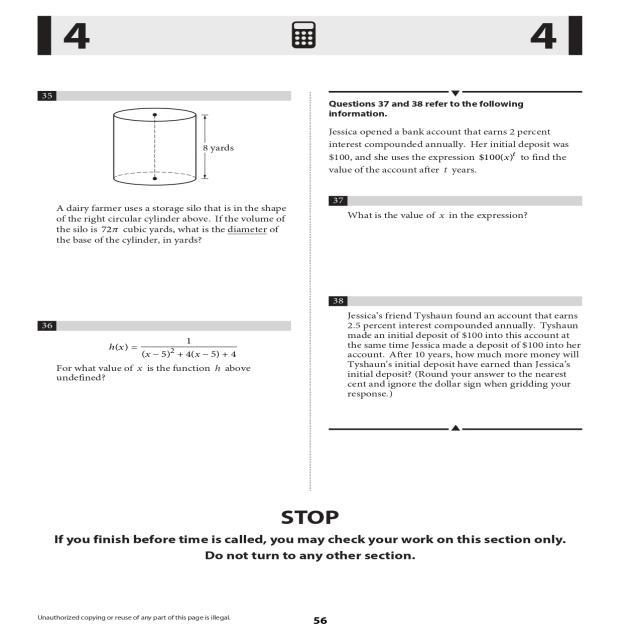Instruction: (314, 98, 588, 182)
Question_Answer_Block: (30, 85, 302, 255), (316, 291, 591, 412), (30, 314, 302, 400), (315, 190, 590, 232)
Question_Block: (30, 85, 302, 255), (316, 291, 591, 412), (30, 314, 302, 400), (315, 190, 590, 232)
Question_Paper_Area: (316, 86, 590, 493), (31, 86, 303, 493)
